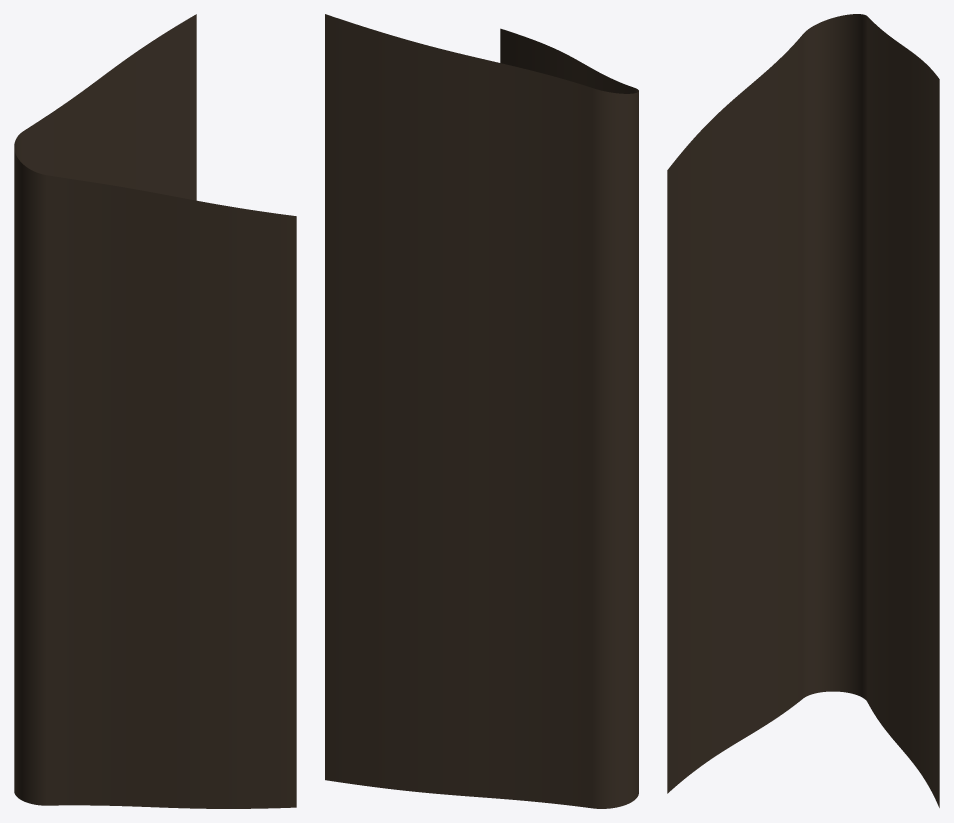
File: inner_fill_2_earth.dae
3 views of the same model, side by side, from view 1: azimuth 30°, elevation 25°; view 2: azimuth 150°, elevation 25°; view 3: azimuth 270°, elevation 25° (orthographic). The views are drawn at different scales.
Parts seen in each view (by area): view 1: inner_fill_2_earth_0_L1; view 2: inner_fill_2_earth_0_L1; view 3: inner_fill_2_earth_0_L1.
Boxes of the visible parts, left/top/right/bottom form: inner_fill_2_earth_0_L1: left=14, top=14, right=296, bottom=808; inner_fill_2_earth_0_L1: left=325, top=14, right=638, bottom=808; inner_fill_2_earth_0_L1: left=667, top=14, right=939, bottom=807.
Bounding box in the file's own units: 3.56 × 3.49 × 10.3.
